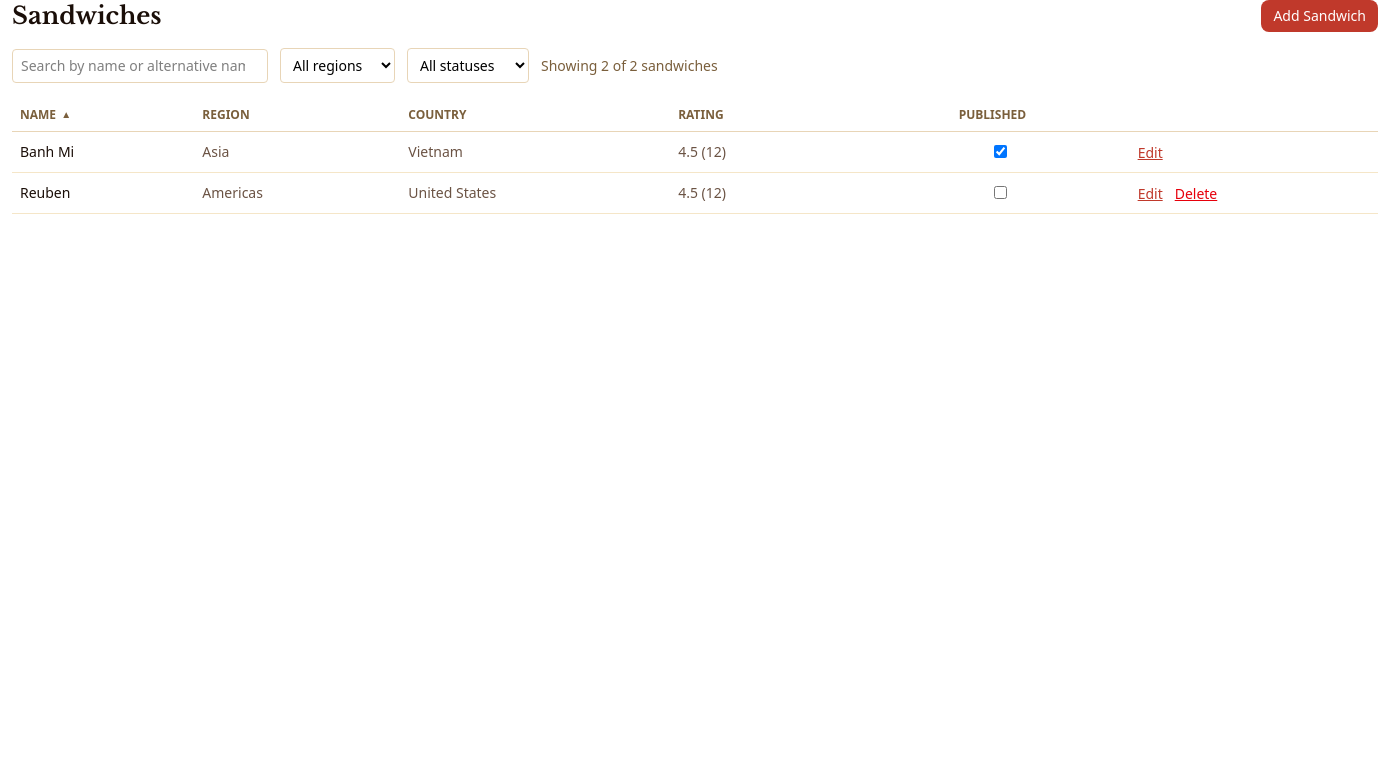
DatabaseManagementPage editing › opens the edit form with the entry values
Check: the text "Reuben" is shown, box x1=12 y1=172 x2=194 y2=214
Click the button with aria-label "Edit Reuben".
click(1150, 194)  # box x1=1138 y1=184 x2=1163 y2=204
(page scrolled)
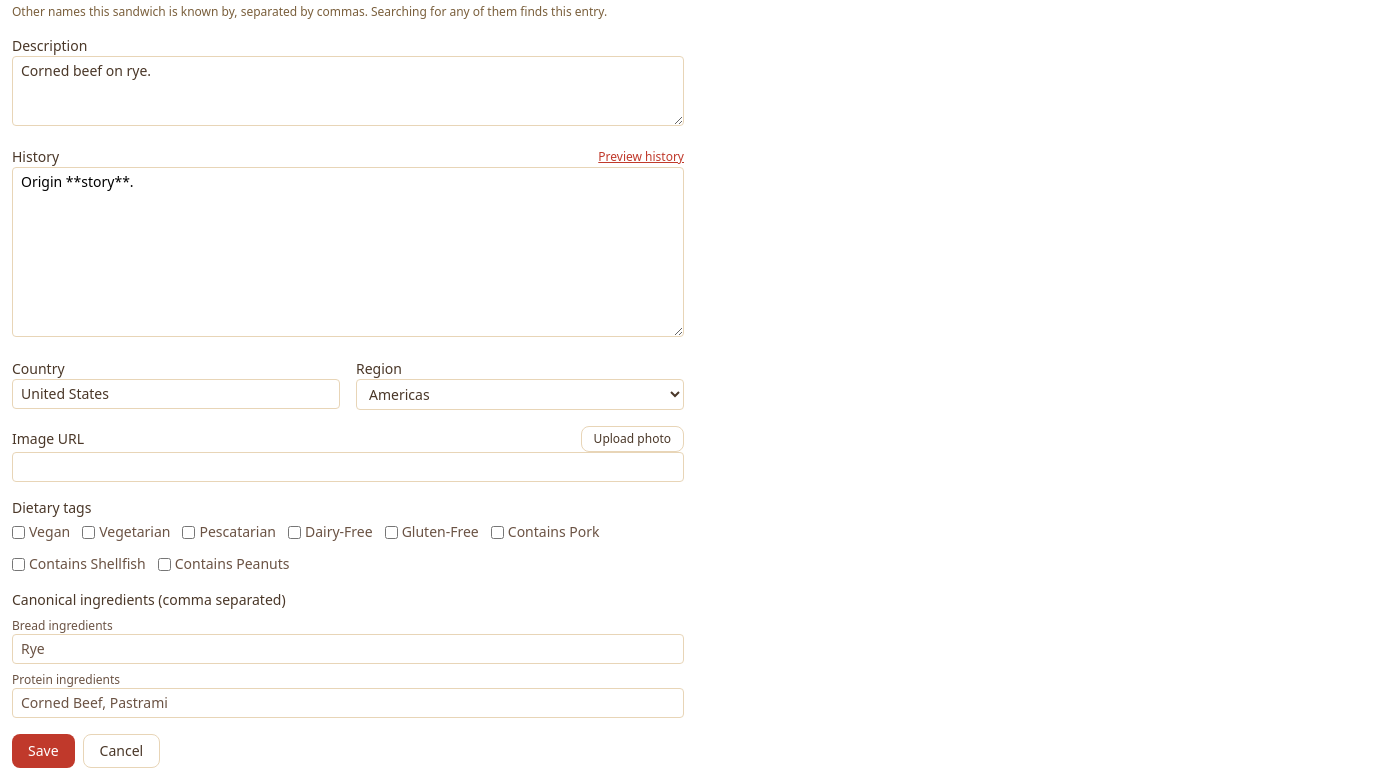
Check: the text box labelled "Description" holds "Corned beef on rye.", box x1=12 y1=56 x2=684 y2=126
Check: the field labelled "Country" holds "United States", box x1=12 y1=379 x2=340 y2=409
Check: the dropdown labelled "Region" shows "Americas", box x1=356 y1=379 x2=684 y2=410
